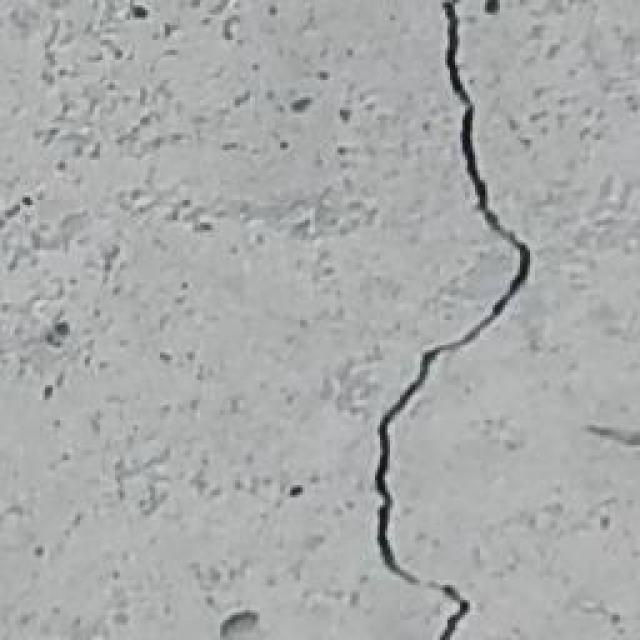concrete-crack: (369, 8, 535, 640)
